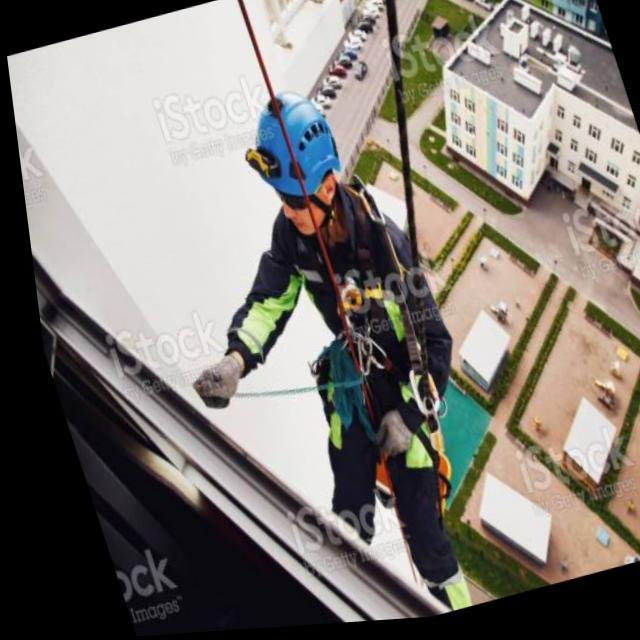belt: (224, 158, 481, 526)
